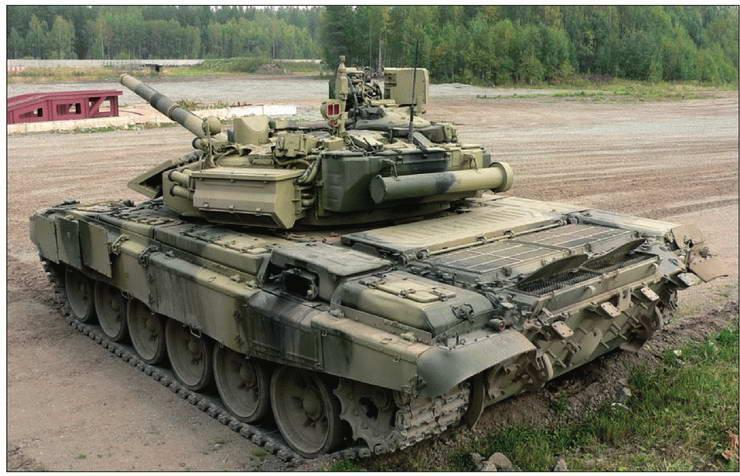tank: (27, 45, 713, 468)
